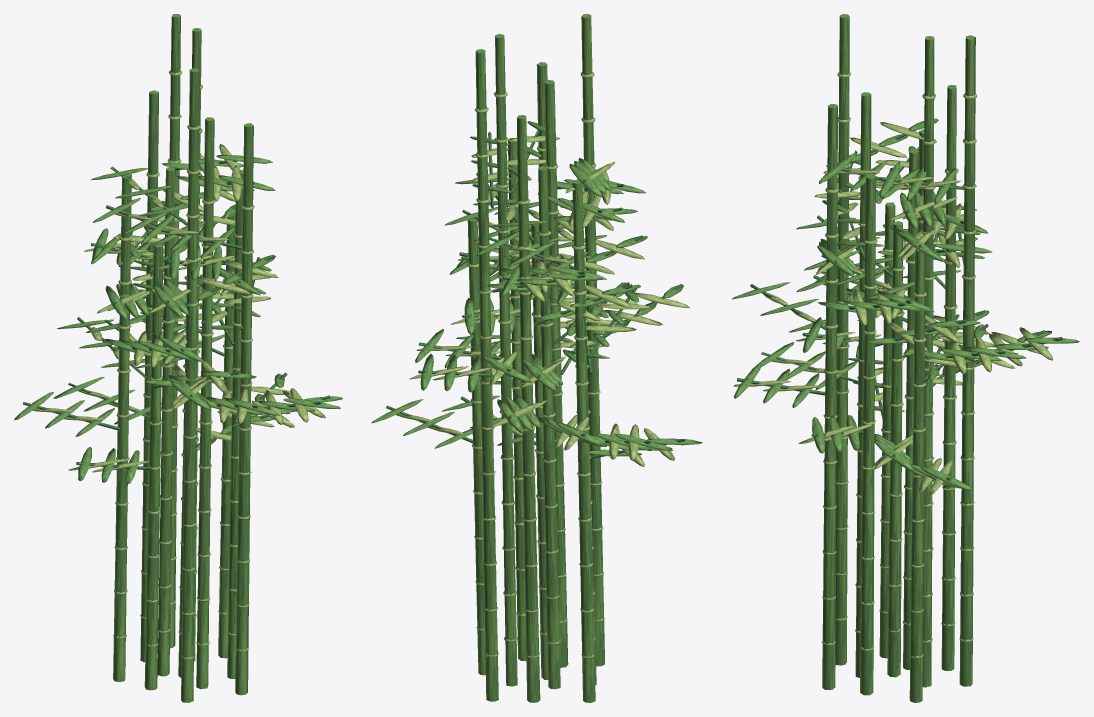
The model's file is tree_4.glb.
3 renders of one model, left to right at view 1: azimuth 30°, elevation 25°; view 2: azimuth 150°, elevation 25°; view 3: azimuth 270°, elevation 25°, orthographic. The views are drawn at different scales.
Parts seen in each view (by area): view 1: tree_4; view 2: tree_4; view 3: tree_4.
Boxes of the visible parts, x1,y1,x2,y2 form: tree_4: (14,14,342,702); tree_4: (371,14,702,702); tree_4: (732,14,1079,702).
Bounding box in the file's own units: 2.34 × 5 × 2.43.
Materials: 1 (1 with a texture image).
